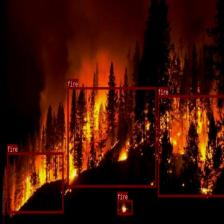fire: (67, 86, 156, 186), (157, 94, 224, 196), (7, 152, 63, 213), (118, 200, 132, 215)
